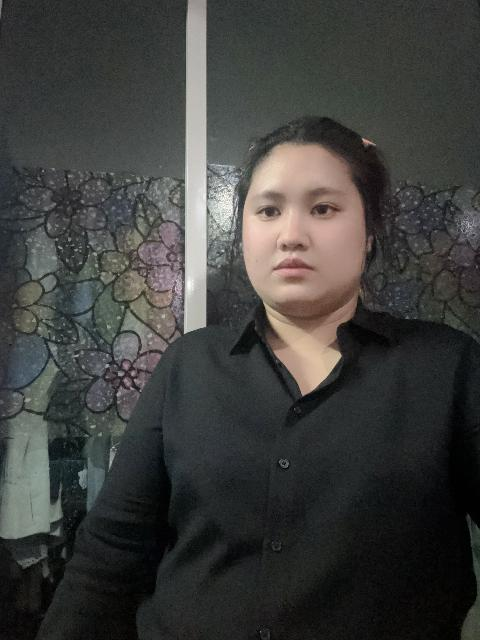fokus: (239, 121, 370, 309)
